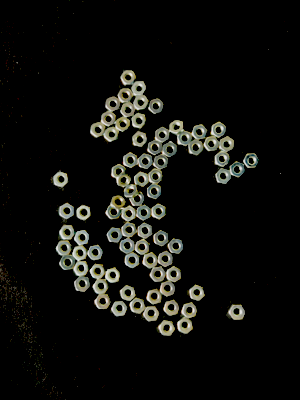nut: (229, 304, 247, 321), (181, 302, 199, 319), (163, 300, 181, 317), (177, 317, 194, 334), (150, 266, 167, 283), (190, 284, 206, 302), (94, 294, 112, 310), (159, 321, 176, 337), (144, 306, 161, 322), (130, 298, 147, 314), (160, 281, 176, 298), (121, 285, 137, 302), (112, 301, 129, 317), (105, 268, 122, 284), (74, 261, 91, 277), (87, 245, 104, 261), (59, 225, 76, 241), (158, 251, 174, 268), (168, 239, 185, 255), (135, 239, 151, 256), (121, 222, 138, 238), (229, 162, 246, 178), (215, 169, 232, 185), (215, 151, 231, 168), (211, 122, 227, 139), (188, 140, 205, 156), (177, 130, 193, 147), (123, 152, 139, 169), (149, 98, 165, 115), (56, 241, 74, 256), (147, 289, 163, 305), (75, 277, 91, 293), (60, 255, 76, 271), (72, 245, 88, 261), (59, 203, 75, 219), (166, 267, 182, 283), (147, 184, 163, 200), (134, 172, 150, 188), (154, 154, 170, 170), (204, 136, 220, 152), (133, 131, 149, 147), (132, 113, 148, 129), (90, 122, 106, 138), (90, 264, 107, 279), (74, 230, 91, 245), (143, 252, 158, 269), (125, 252, 140, 269), (154, 230, 169, 247), (243, 153, 260, 168), (138, 153, 153, 170), (155, 127, 170, 144), (101, 111, 116, 128), (131, 81, 148, 96), (77, 205, 92, 221), (54, 172, 70, 187), (120, 238, 135, 254), (138, 223, 153, 239), (107, 228, 123, 243), (152, 204, 167, 220), (137, 205, 152, 221), (122, 206, 137, 222), (116, 172, 131, 188), (149, 169, 164, 185), (220, 137, 235, 153), (192, 125, 208, 140), (170, 120, 185, 136), (163, 142, 178, 158), (148, 140, 163, 156), (104, 127, 120, 142), (116, 117, 131, 133), (106, 96, 121, 112), (121, 102, 136, 118), (133, 96, 149, 111), (118, 88, 134, 103), (121, 70, 137, 85), (93, 280, 110, 294), (111, 195, 126, 210), (112, 164, 127, 179), (106, 206, 122, 220), (130, 192, 146, 206), (125, 185, 140, 199)
